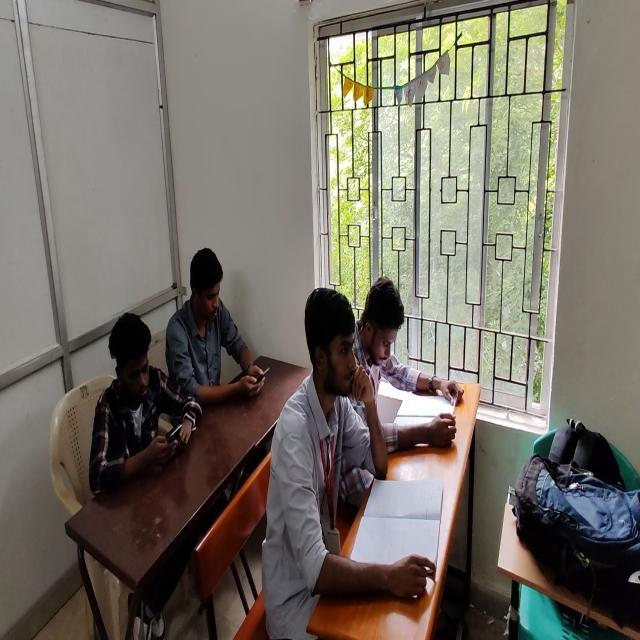reading: (276, 284, 406, 640), (358, 276, 462, 409)
using_mobile: (90, 310, 203, 495), (163, 243, 264, 419)
